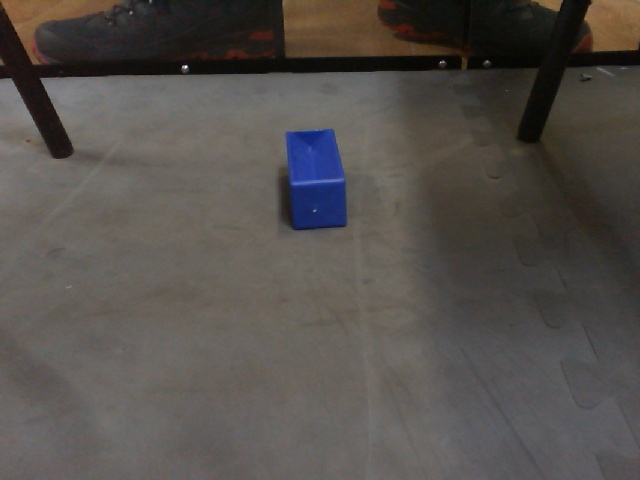BlueSample: (279, 125, 355, 237)
